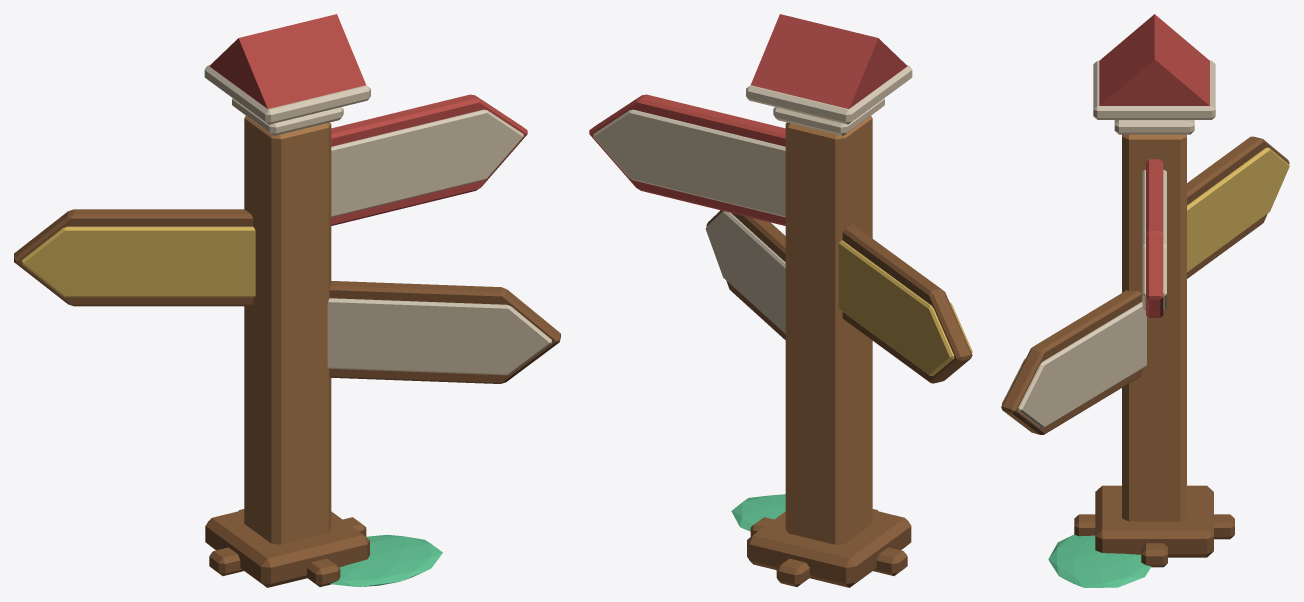
Rendered from ranch_plaza_signpost.fbx.
The picture shows the model from 3 angles, left to right: view 1: azimuth 30°, elevation 25°; view 2: azimuth 150°, elevation 25°; view 3: azimuth 270°, elevation 25°; orthographic projection. The views are drawn at different scales.
Visible parts, largest first — view 1: ranch_plaza_signpost; view 2: ranch_plaza_signpost; view 3: ranch_plaza_signpost.
Part boxes in pixels (x1,y1,x2,y2): ranch_plaza_signpost: (14,14,560,587); ranch_plaza_signpost: (589,14,972,587); ranch_plaza_signpost: (1001,14,1289,587).
Size of the model in its own units: 12.65 by 14.52 by 7.55.
